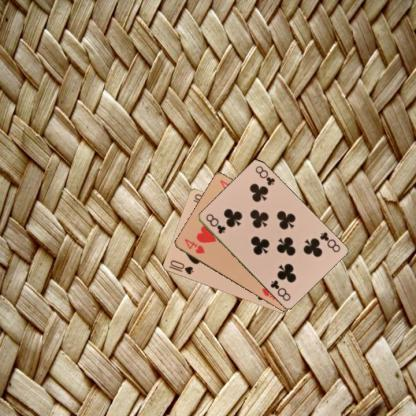10s: (168, 257, 194, 276)
4h: (181, 235, 206, 256)
8c: (316, 229, 341, 254), (204, 210, 226, 235)
